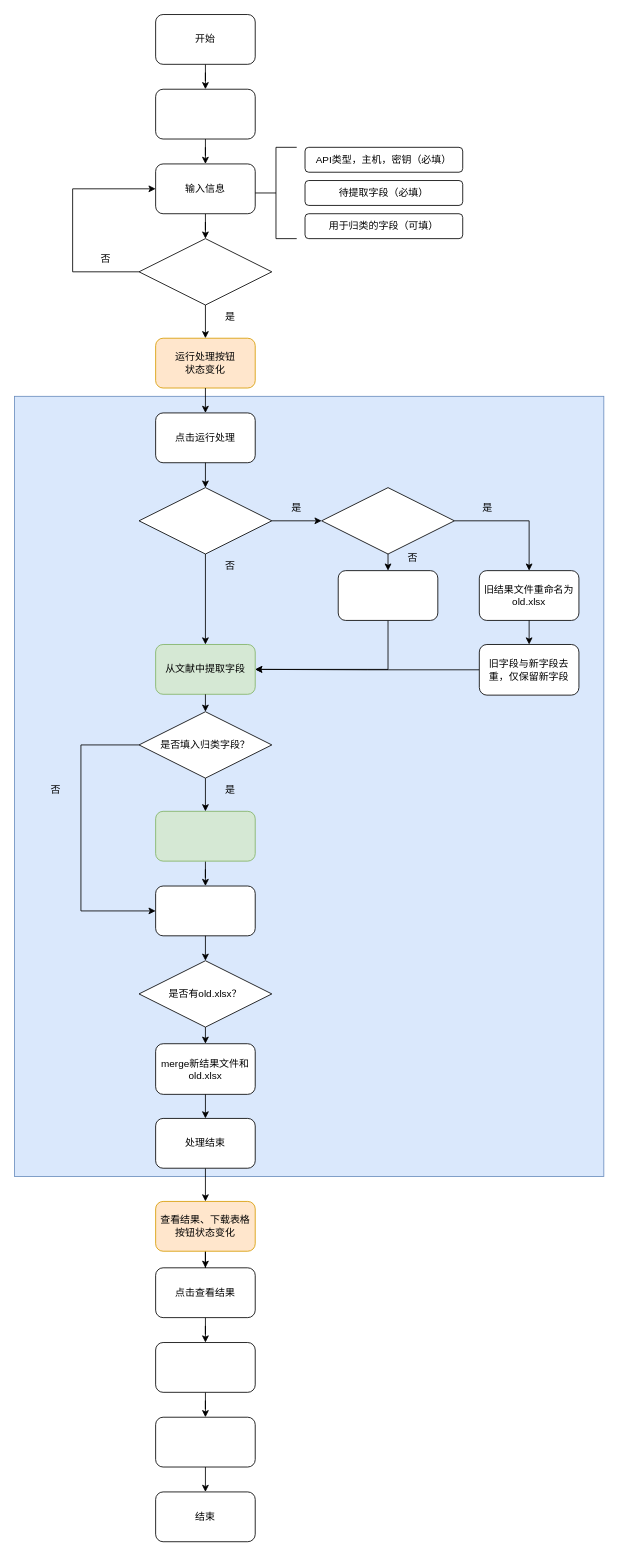
Some shapes in this 618 by 1556 pixel diagram are drawn without their labels. The shapes that lost their labels are listed below. From the top down, each one's box as (x1, y1, x2, y2) in pixels, then its label:
(155, 88, 255, 139): 上传文件
(138, 238, 272, 305): 必填项是否全部输入？
(138, 487, 272, 554): 是否已有结果文件？
(321, 487, 454, 554): 询问是否在此基础上 添加列？
(337, 570, 438, 620): 删除结果文件
(155, 810, 255, 861): 根据字段进行归类
(155, 885, 255, 936): 生成结果文件
(155, 1342, 255, 1392): 展示结果文件
(155, 1416, 255, 1467): 点击下载表格
